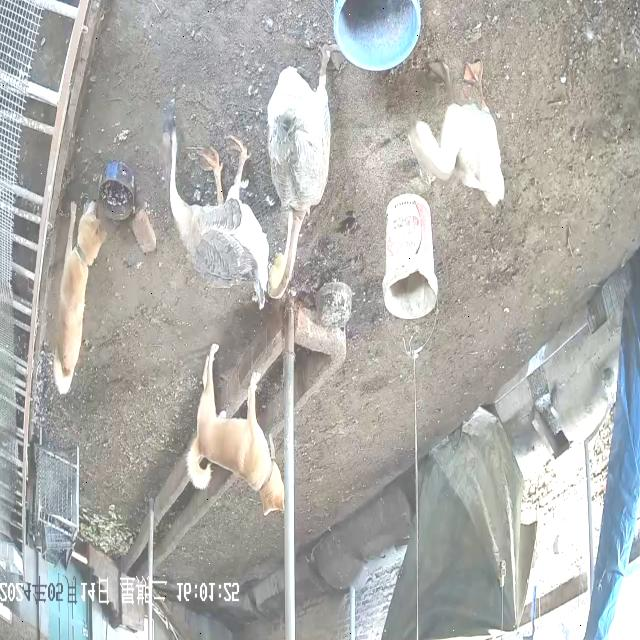dog: (186, 344, 286, 519), (53, 201, 108, 397)
